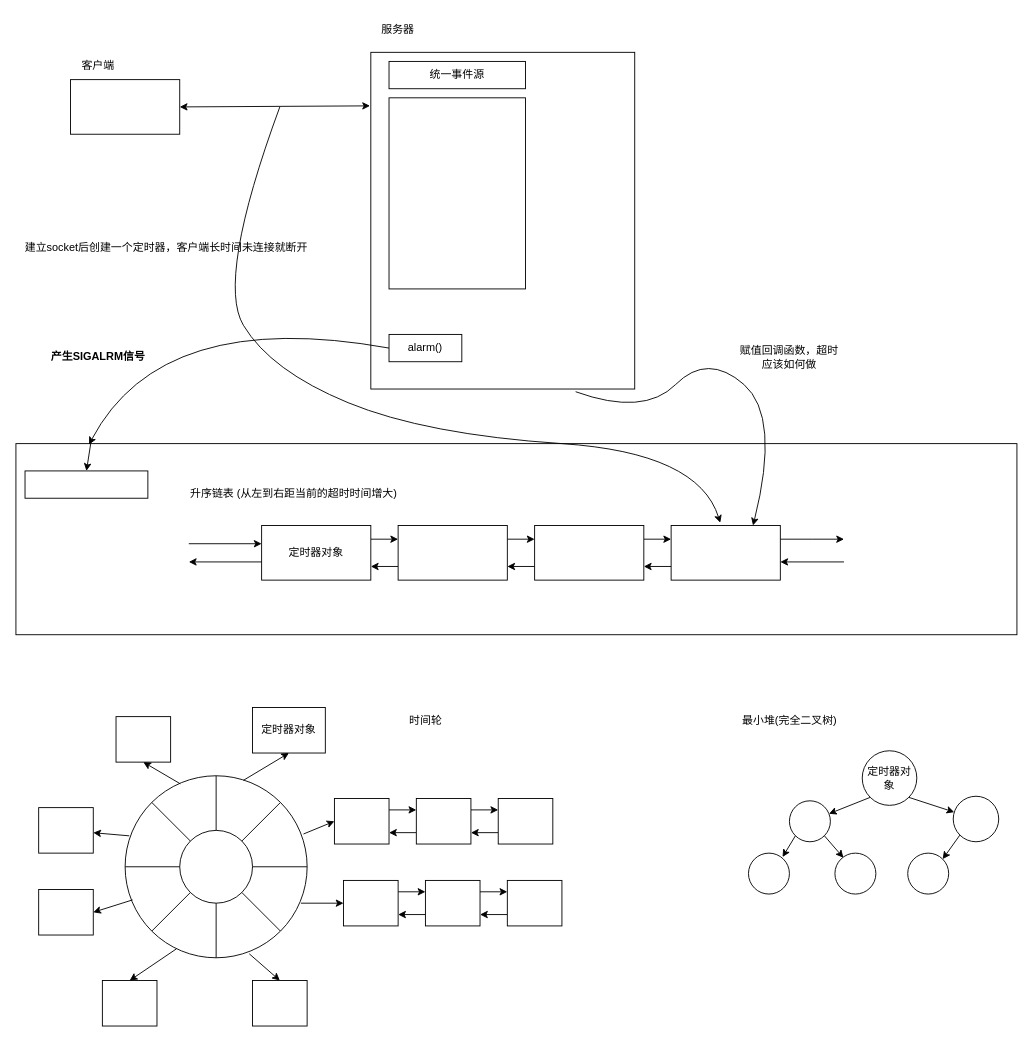
This 1033x1042 diagram has some shape labels left out. Each missing label, with the box of its shape:
epoll 读取就绪事件: (388, 97, 526, 289)
tick() 滴答函数 处理超时的定时器对象: (24, 470, 148, 498)
